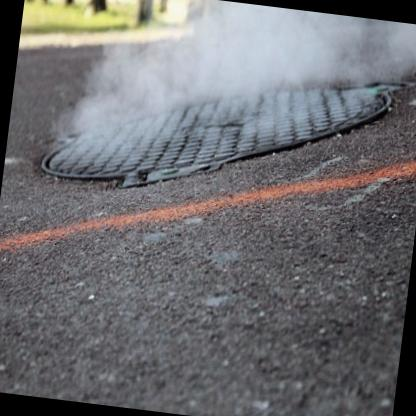manholes: (22, 11, 416, 237)
